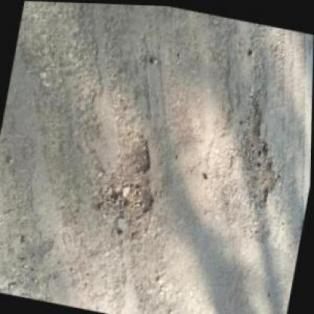Hueco: (224, 92, 293, 211), (89, 126, 166, 226)
